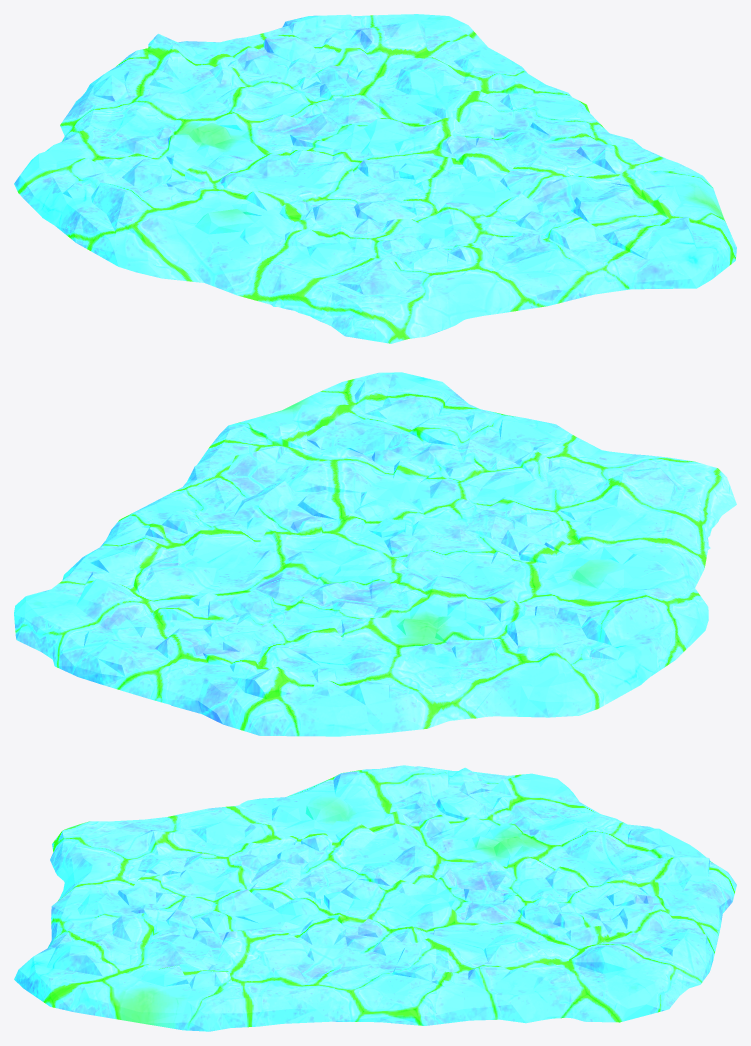
File: DesertRoadB.fbx
3 views of the same model, one above another, from view 1: azimuth 30°, elevation 25°; view 2: azimuth 150°, elevation 25°; view 3: azimuth 270°, elevation 25° (orthographic). The views are drawn at different scales.
Visible parts, largest first — view 1: Dn_HL_DesertRoad_A_01.mo; view 2: Dn_HL_DesertRoad_A_01.mo; view 3: Dn_HL_DesertRoad_A_01.mo.
Boxes of the visible parts, left/top/right/bottom form: Dn_HL_DesertRoad_A_01.mo: left=14, top=14, right=736, bottom=343; Dn_HL_DesertRoad_A_01.mo: left=14, top=372, right=736, bottom=736; Dn_HL_DesertRoad_A_01.mo: left=14, top=765, right=736, bottom=1031.
Bounding box in the file's own units: 1332 × 100 × 1623.
